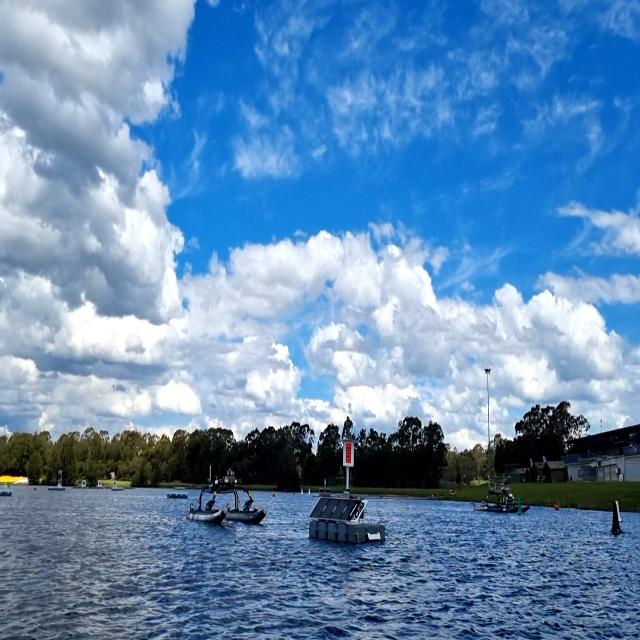led: (345, 442, 353, 465)
